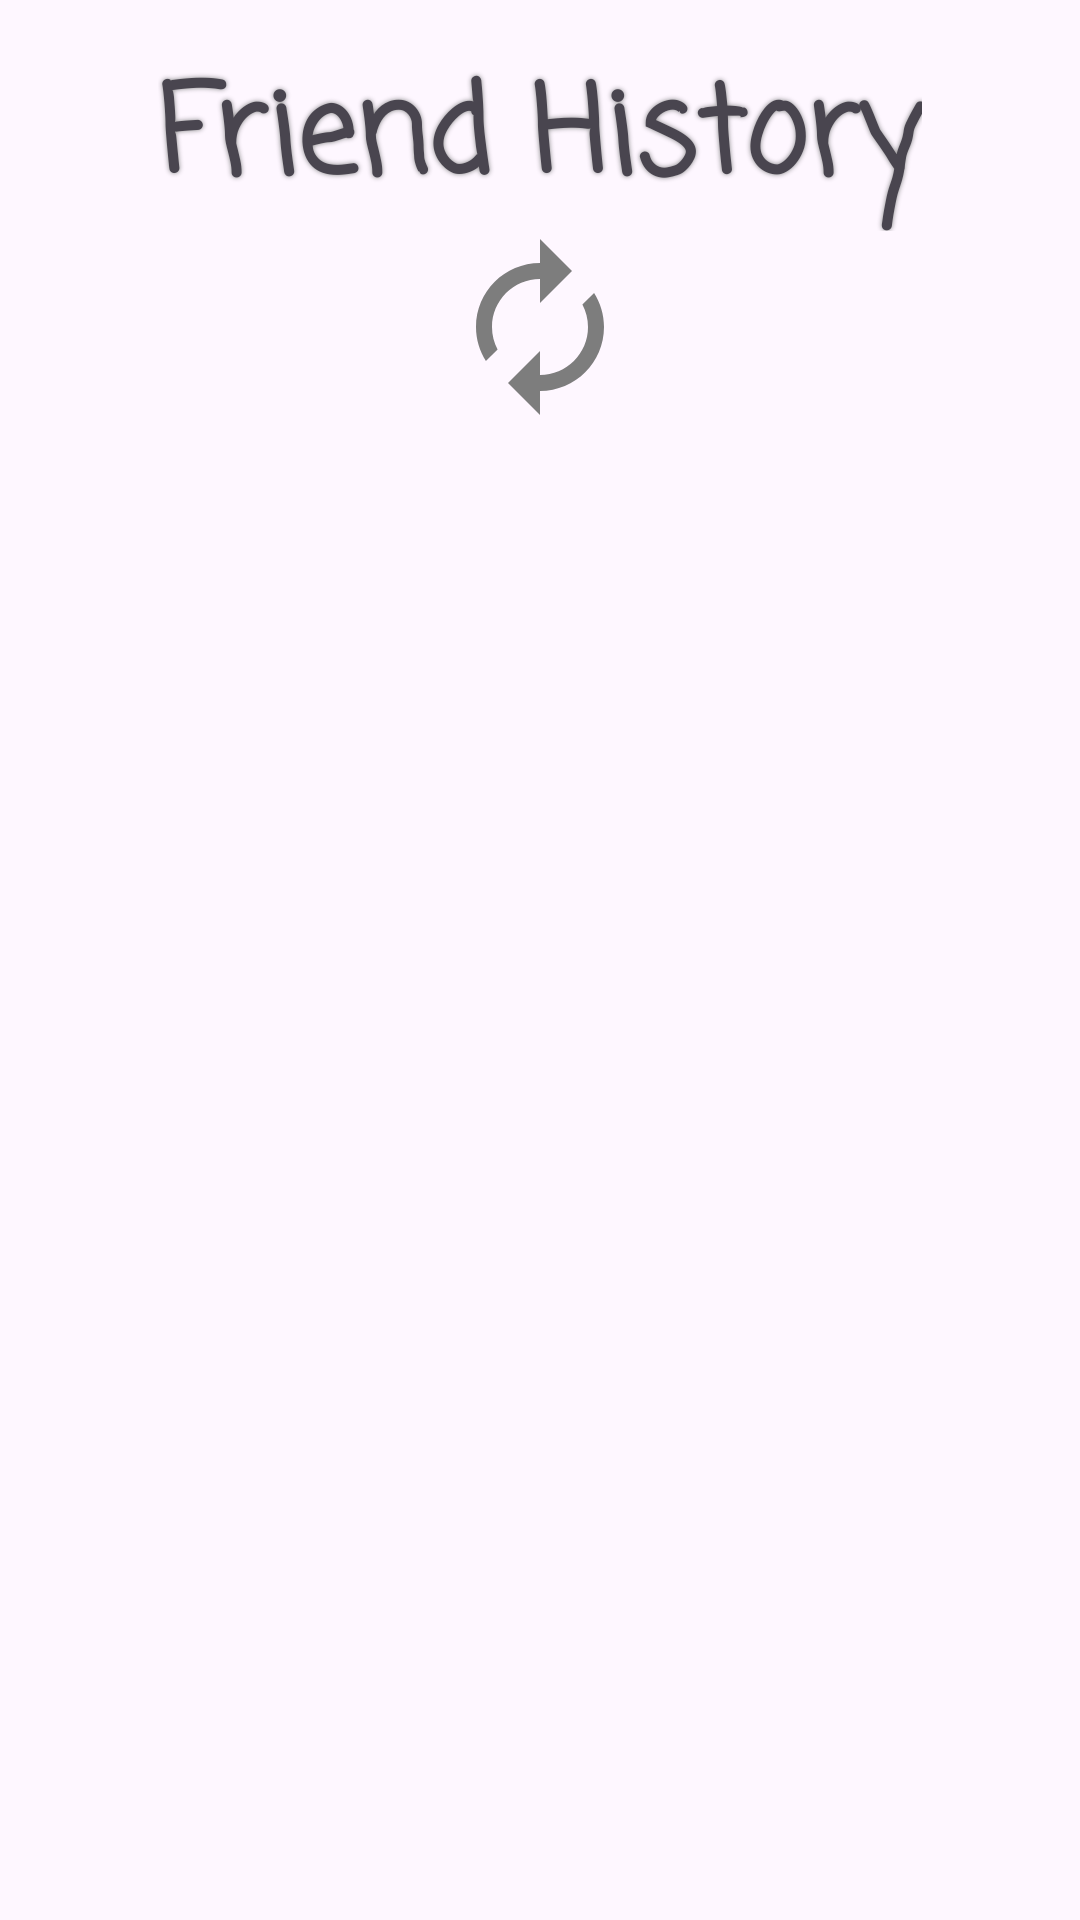

Icons on this 1080px x 1920px Android screen, each with the point to tap as (x=x, y=y):
Loader Animation: (x=540, y=327)
